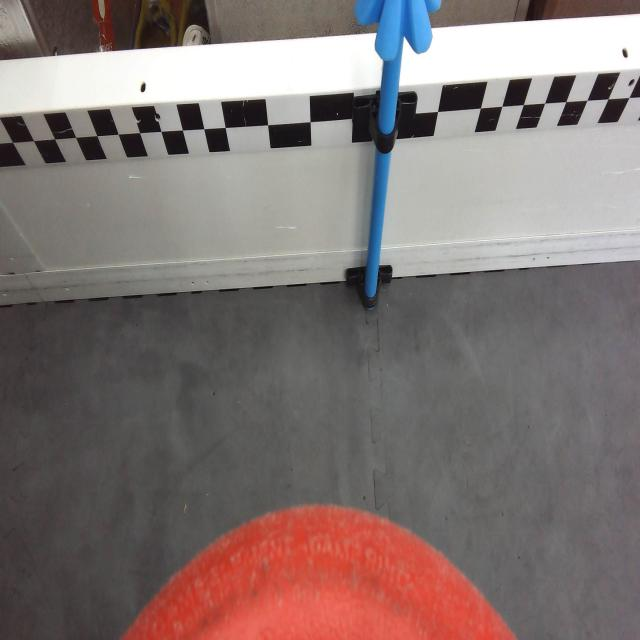zblue-Stake-Head: (355, 0, 442, 62)
